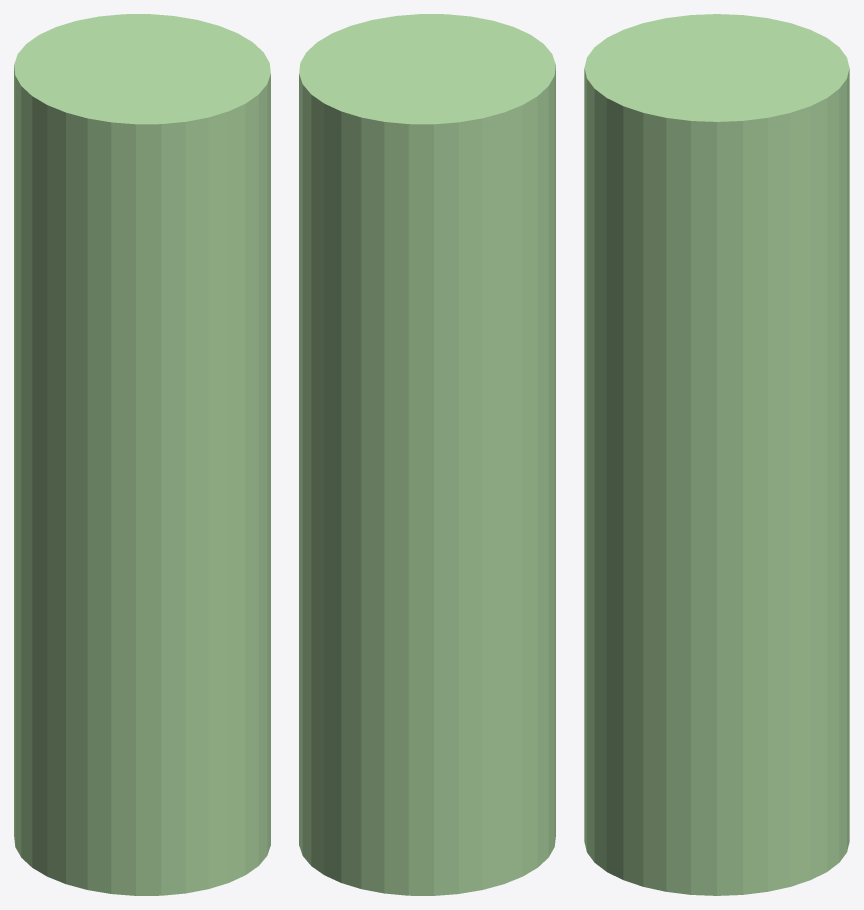
File: Piller1.fbx
3 views of the same model, side by side, from view 1: azimuth 30°, elevation 25°; view 2: azimuth 150°, elevation 25°; view 3: azimuth 270°, elevation 25° (orthographic).
Visible parts, largest first — view 1: Cylinder; view 2: Cylinder; view 3: Cylinder.
Part boxes in pixels (box(x1,y1,x2,y2)): Cylinder: box(14, 14, 270, 895); Cylinder: box(299, 14, 555, 895); Cylinder: box(584, 14, 849, 895).
Bounding box in the file's own units: 145 × 486 × 151.
